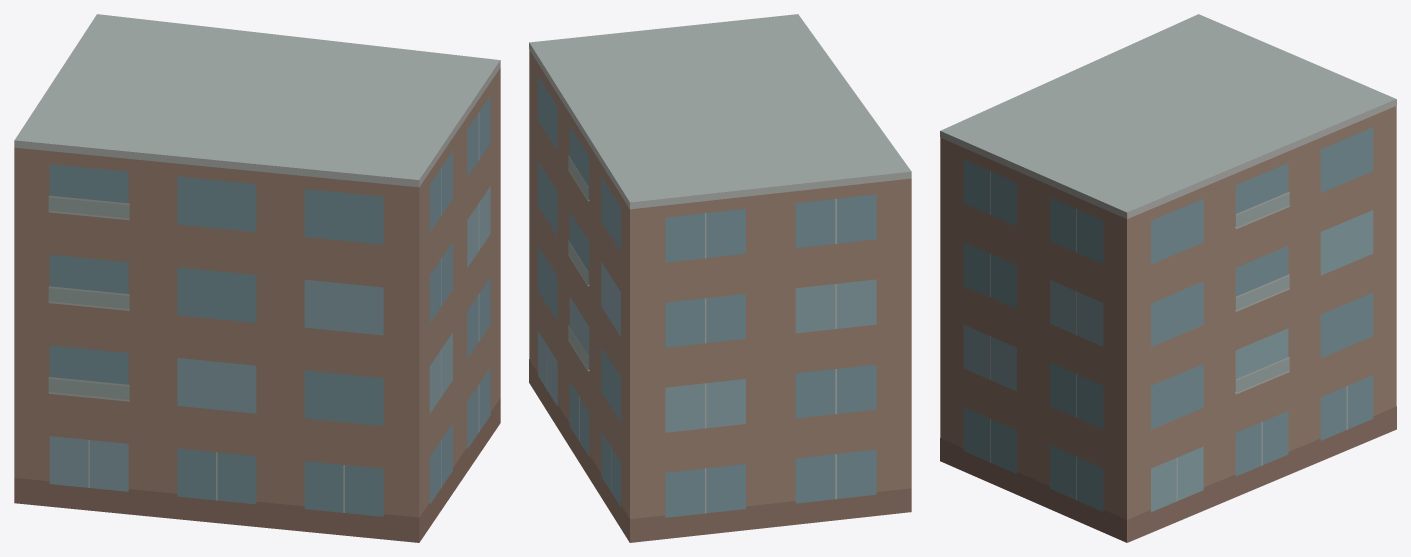
The model's file is survey-upis-32933465.glb.
3 renders of one model, left to right at view 1: azimuth 30°, elevation 25°; view 2: azimuth 150°, elevation 25°; view 3: azimuth 270°, elevation 25°, orthographic. The views are drawn at different scales.
Visible parts, largest first — view 1: survey-upis-32933465.tmp; view 2: survey-upis-32933465.tmp; view 3: survey-upis-32933465.tmp.
Boxes of the visible parts, bbox=[...] form: survey-upis-32933465.tmp: bbox=[14, 14, 500, 542]; survey-upis-32933465.tmp: bbox=[529, 14, 911, 542]; survey-upis-32933465.tmp: bbox=[940, 14, 1396, 542].
Bounding box in the file's own units: 15.74 × 12.2 × 15.29.
